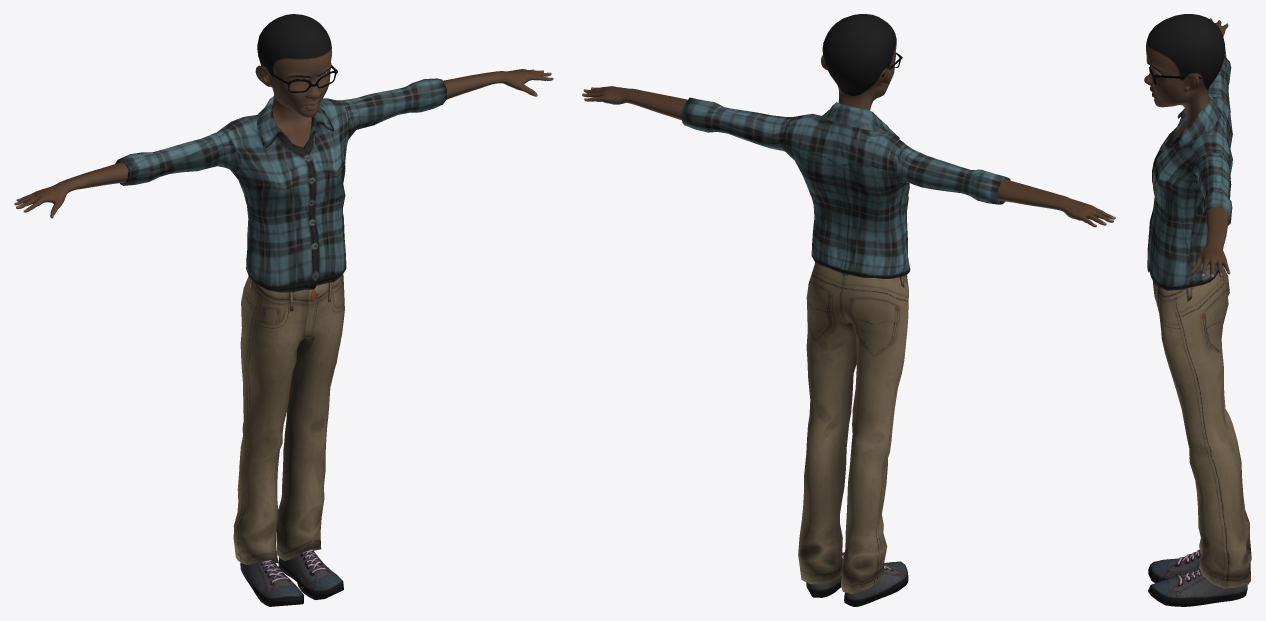
The model's file is Maurice Moore Obj.obj.
3 renders of one model, left to right at view 1: azimuth 30°, elevation 25°; view 2: azimuth 150°, elevation 25°; view 3: azimuth 270°, elevation 25°, orthographic.
Visible parts, largest first — view 1: Bottoms, Tops, Body, Shoes; view 2: Bottoms, Tops, Body, Shoes; view 3: Bottoms, Tops, Body, Shoes.
Boxes of the visible parts, left/top/right/bottom form: Bottoms: left=233, top=274, right=344, bottom=564; Tops: left=115, top=78, right=446, bottom=292; Body: left=14, top=14, right=553, bottom=218; Shoes: left=240, top=549, right=343, bottom=606; Bottoms: left=798, top=262, right=908, bottom=593; Tops: left=681, top=97, right=1010, bottom=278; Body: left=582, top=14, right=1115, bottom=227; Shoes: left=806, top=552, right=908, bottom=606; Bottoms: left=1153, top=266, right=1251, bottom=588; Tops: left=1147, top=56, right=1232, bottom=290; Body: left=1144, top=14, right=1230, bottom=277; Shoes: left=1148, top=549, right=1247, bottom=606.
Bounding box in the file's own units: 163 × 167 × 28.43.
Materials: 1 (1 with a texture image).
